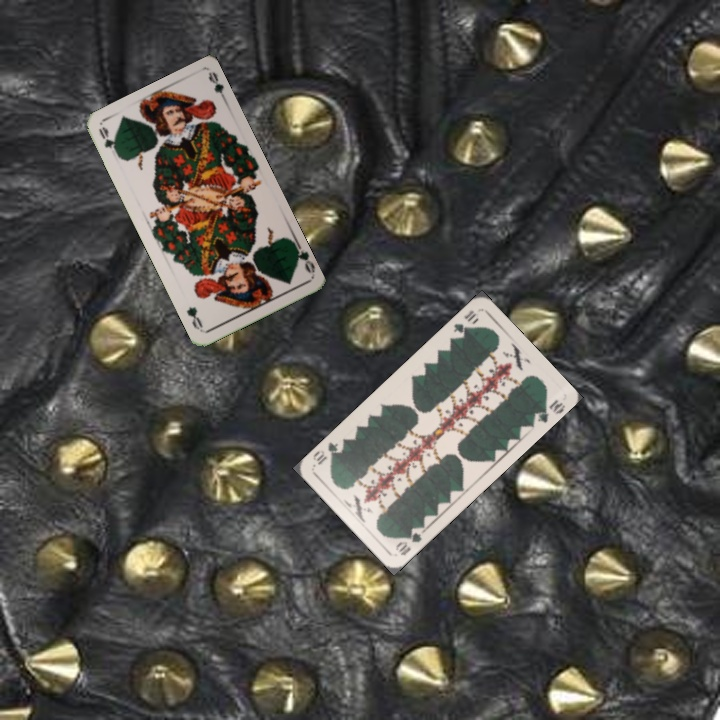G10: (391, 523, 427, 558), (449, 306, 479, 342)
GO: (95, 123, 123, 160), (290, 238, 317, 275)
